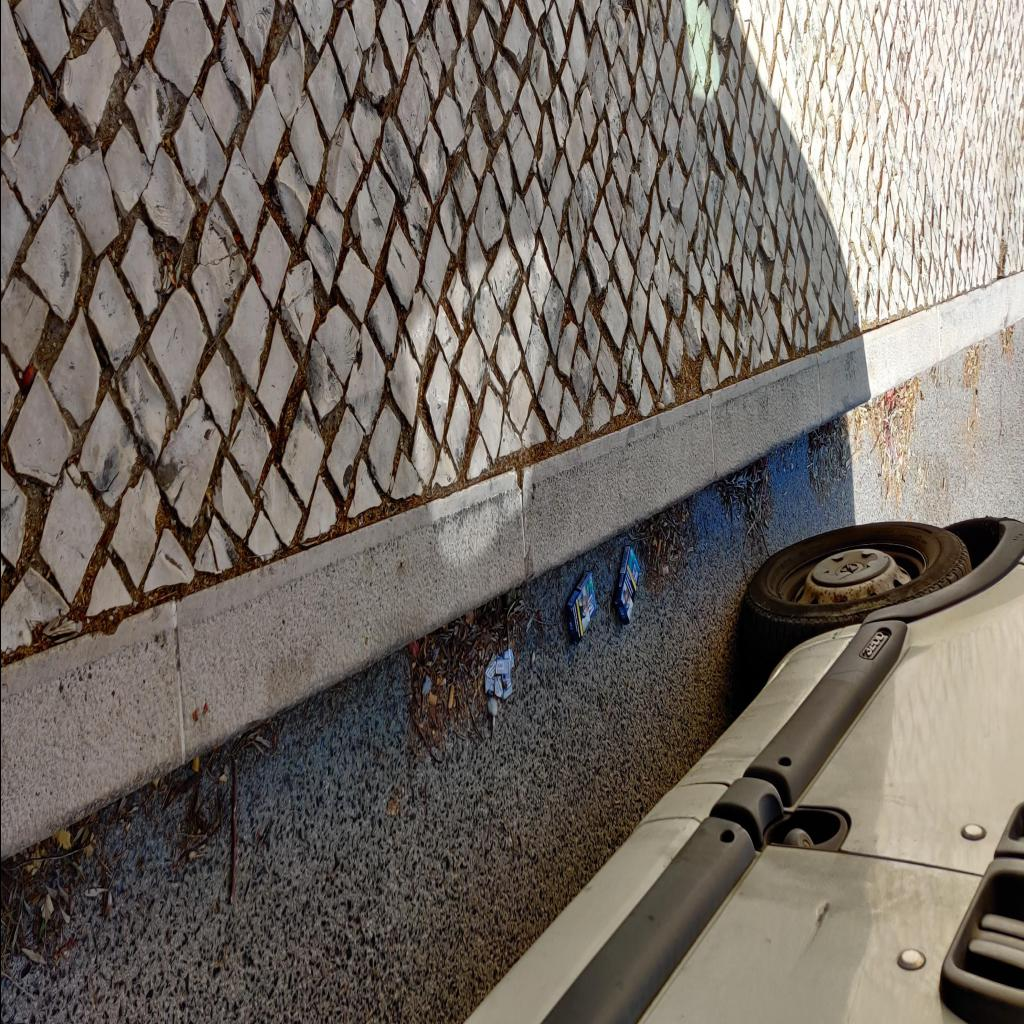Cigarette: (446, 683, 454, 707), (426, 689, 436, 704), (436, 676, 445, 686), (656, 402, 664, 410), (965, 418, 969, 432), (658, 538, 660, 556)
Other carton: (565, 572, 597, 644), (613, 544, 639, 626)
Other plastic: (484, 648, 514, 698)
